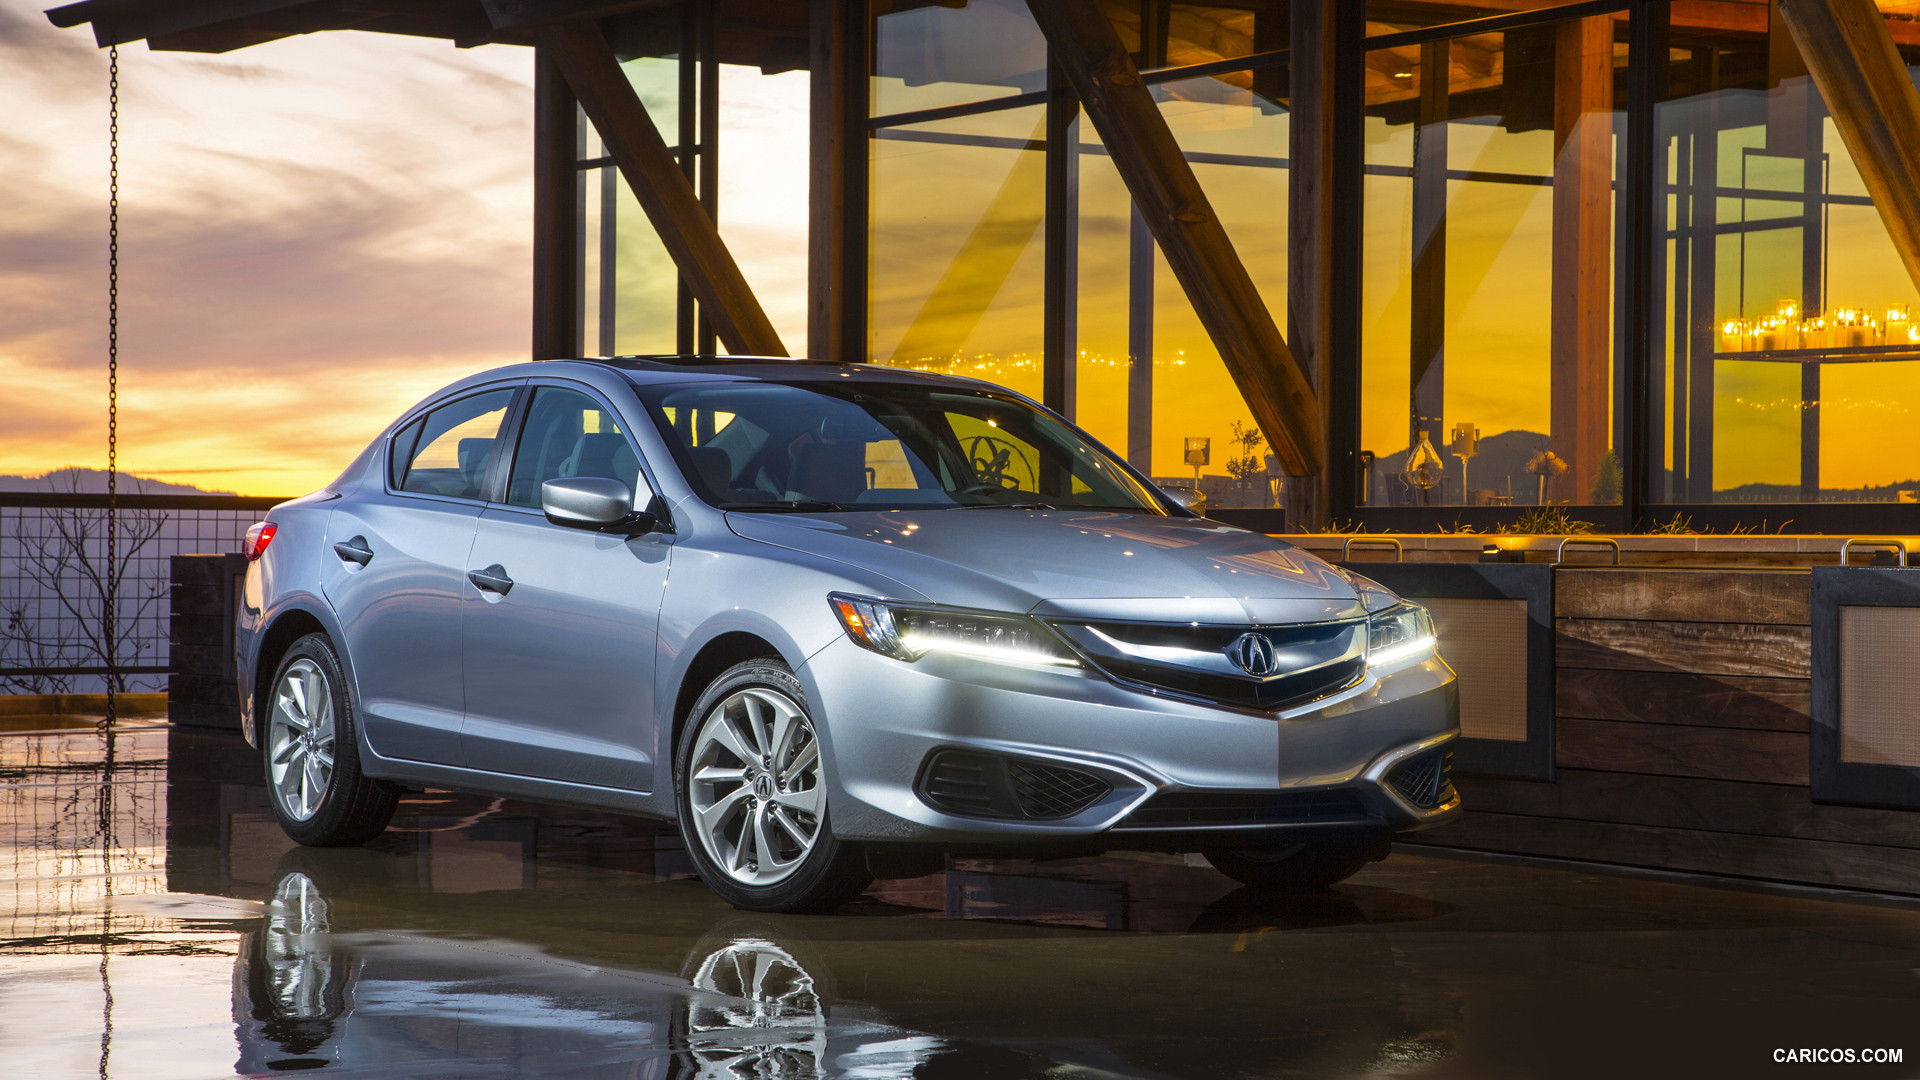Fog Lamp & Scope: (905, 742, 1116, 820)
Front: (745, 525, 1455, 823)
Front Bumper: (818, 713, 1468, 837)
Grill: (1064, 621, 1379, 709)
Headlight: (822, 585, 1079, 673)
